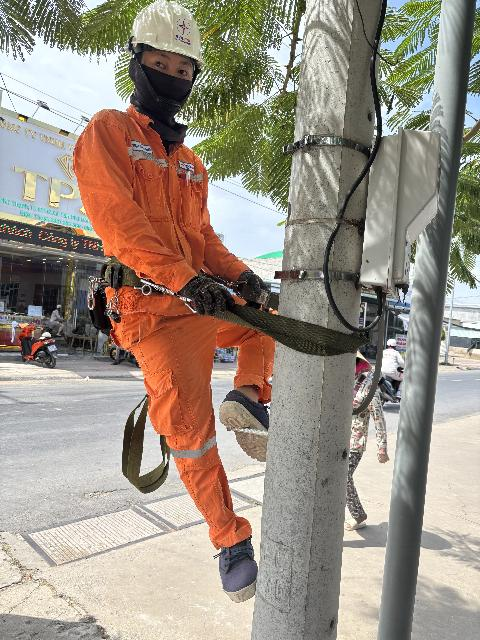gloves: (222, 258, 284, 315), (171, 267, 230, 322)
harness: (92, 249, 210, 307)
helmet: (123, 0, 227, 76)
shoes: (213, 376, 287, 463), (198, 511, 266, 600)
